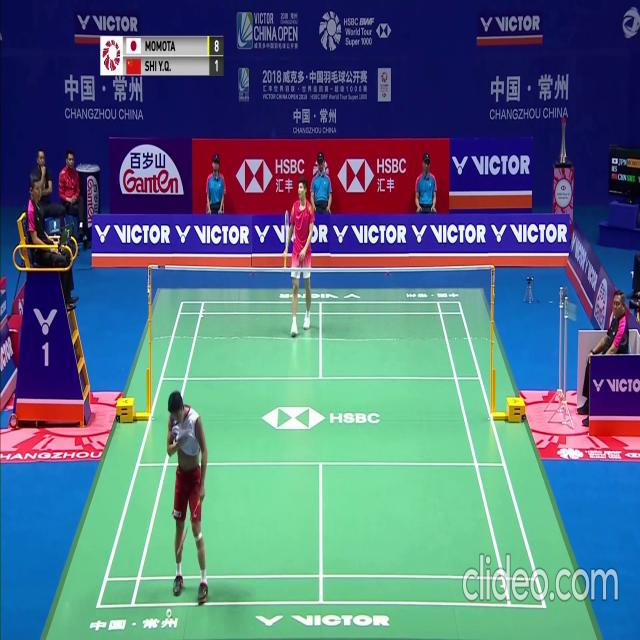Shuttlecock: (166, 608, 171, 615)
